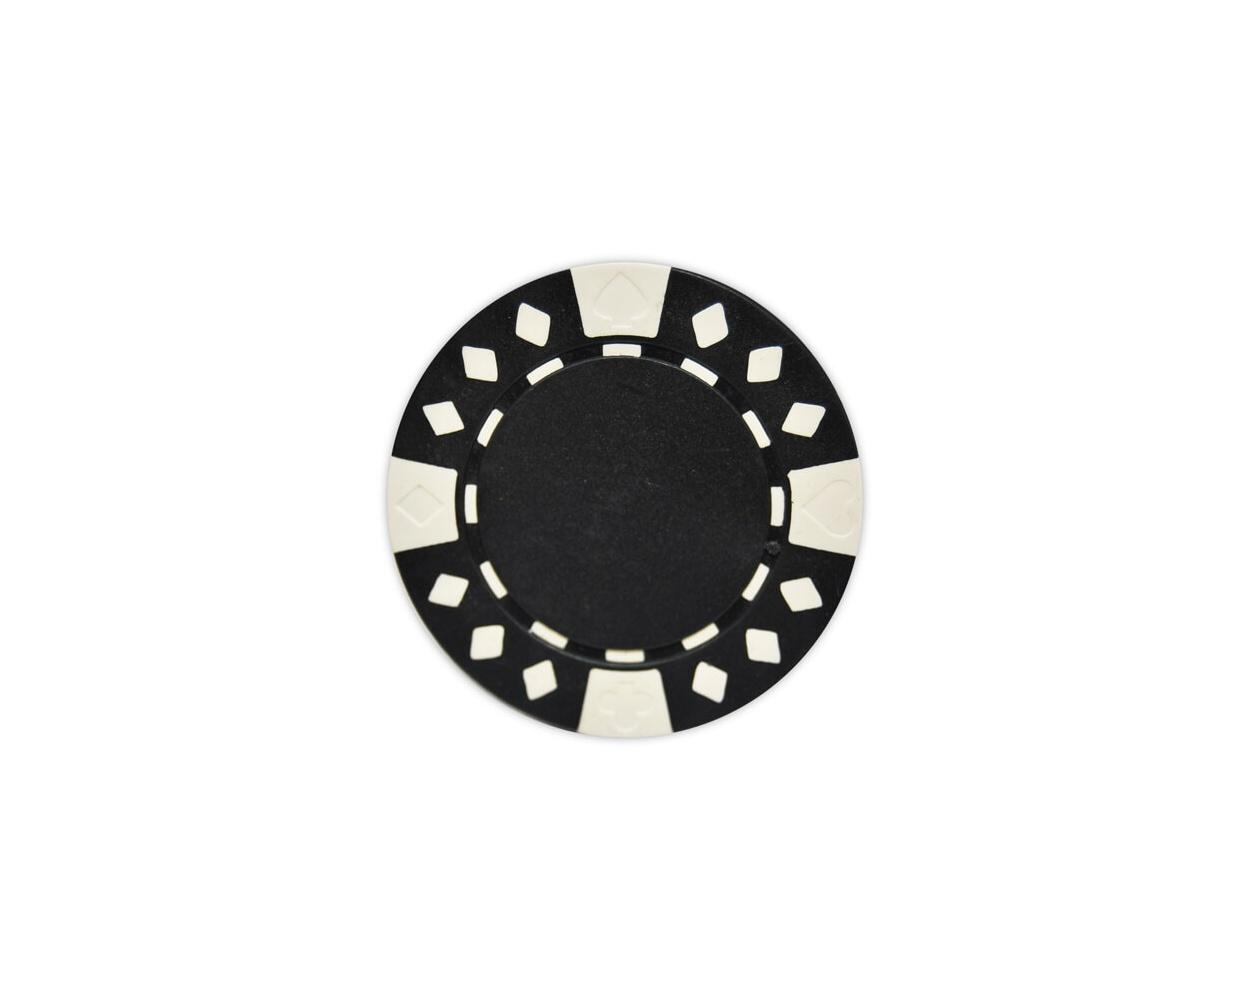chip-black: (386, 261, 864, 738)
